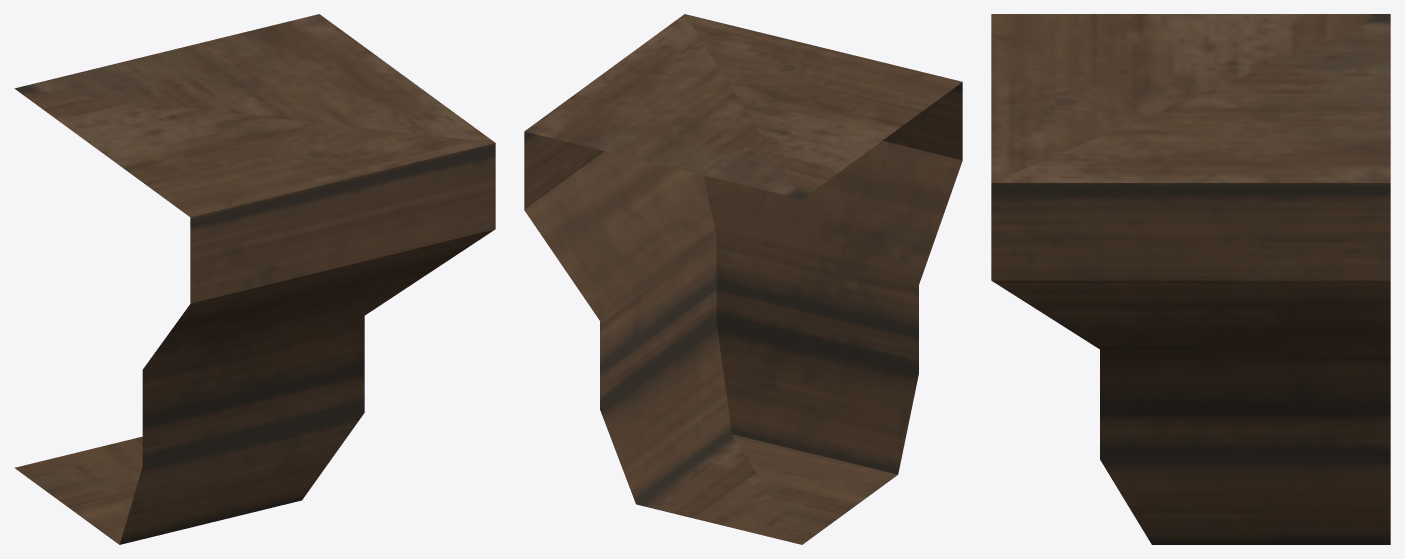
File: TowerOverhang_TopTrimCorner.fbx
The picture shows the model from 3 angles, left to right: view 1: azimuth 30°, elevation 25°; view 2: azimuth 150°, elevation 25°; view 3: azimuth 270°, elevation 25°; orthographic projection. The views are drawn at different scales.
Visible parts, largest first — view 1: TowerOverhangTopTrimCorner; view 2: TowerOverhangTopTrimCorner; view 3: TowerOverhangTopTrimCorner.
Boxes of the visible parts, box(x1,y1,x2,y2) form: TowerOverhangTopTrimCorner: box(14, 14, 495, 544); TowerOverhangTopTrimCorner: box(524, 14, 962, 544); TowerOverhangTopTrimCorner: box(991, 14, 1390, 544).
Bounding box in the file's own units: 20.84 × 24.75 × 20.84.
